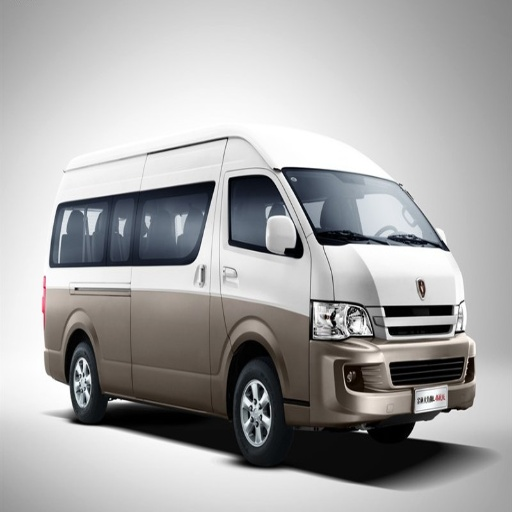front_bumper: (291, 304, 476, 428)
front_glass: (287, 171, 443, 247)
front_right_door: (216, 165, 311, 303)
front_right_light: (312, 301, 373, 345)
trunk: (44, 270, 298, 397)
